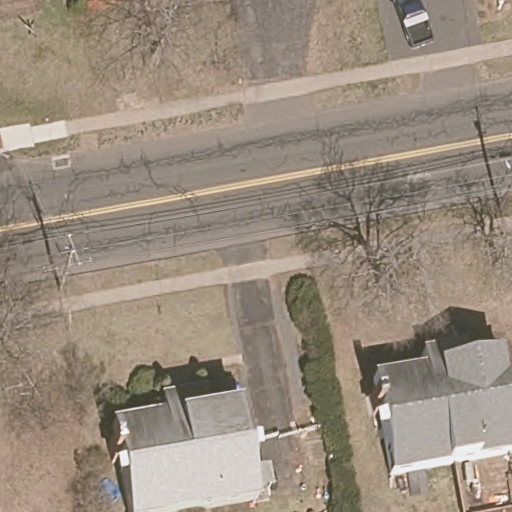DT: (57, 232, 82, 292), (498, 159, 512, 208)
